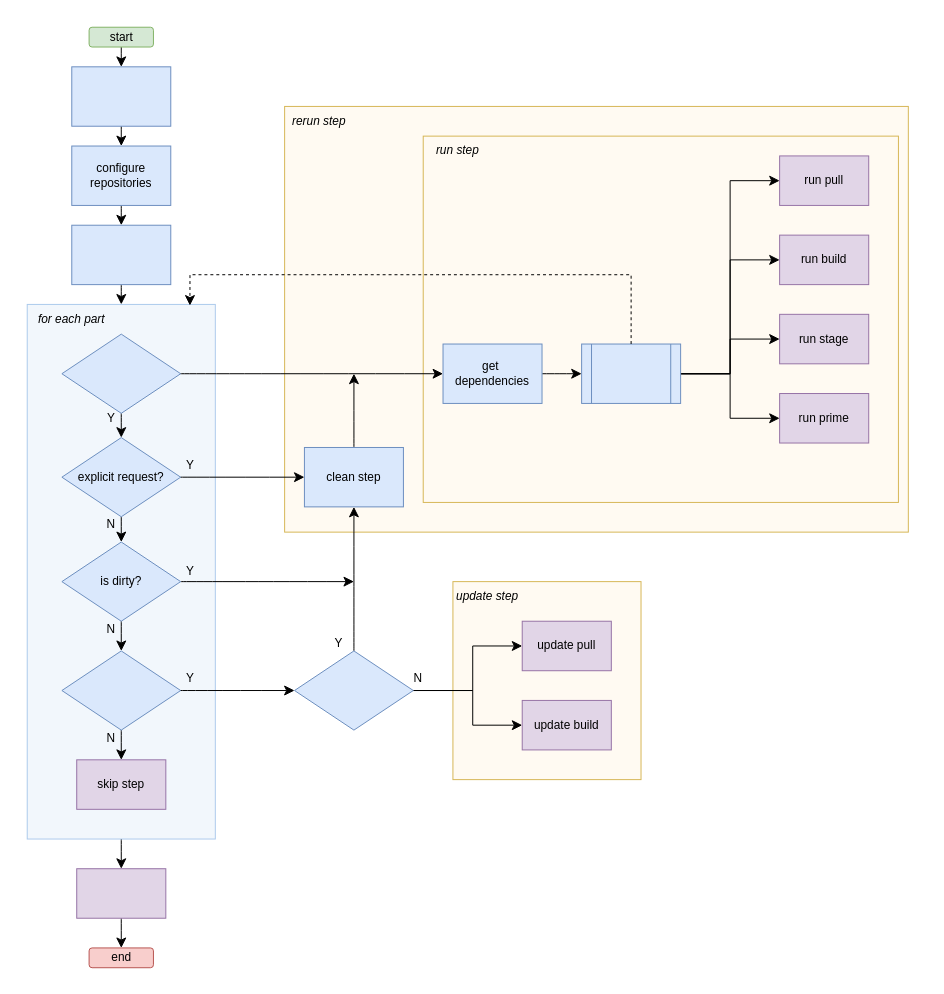
This 944x994 diagram has some shape labels left out. The shapes that lost their labels are listed below. From the top down, each one's centre as x and y in pixels, then its label:
At point (121, 96): "validate schema".
At point (121, 254): "build dependencies".
At point (121, 373): "step already ran?".
At point (631, 373): "run lifecycle for each dep".
At point (121, 690): "is outdated?".
At point (353, 690): "step >= STAGE?".
At point (121, 893): "run pack".
